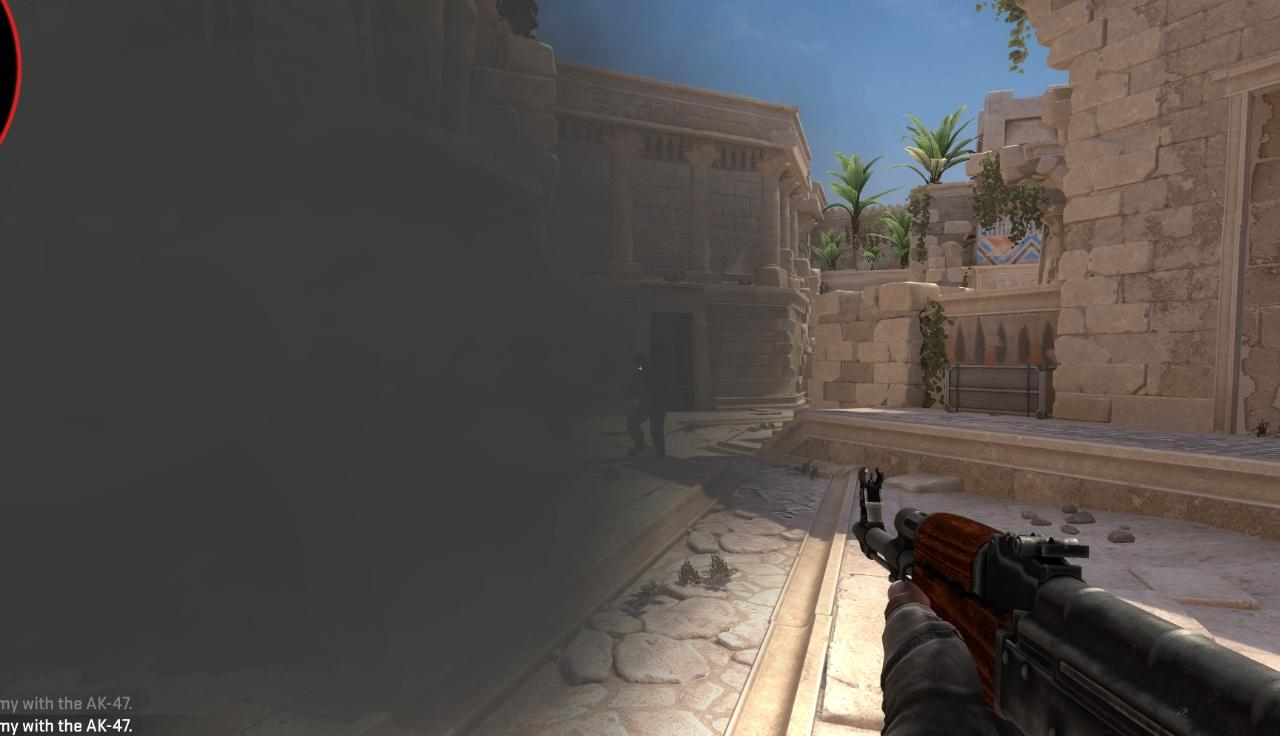ct: (625, 354, 666, 456)
cthead: (635, 354, 651, 372)
rifle: (862, 473, 1280, 736)
